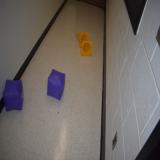cone: (76, 32, 89, 48), (81, 40, 93, 56)
cube: (2, 79, 24, 111), (48, 69, 66, 101)
